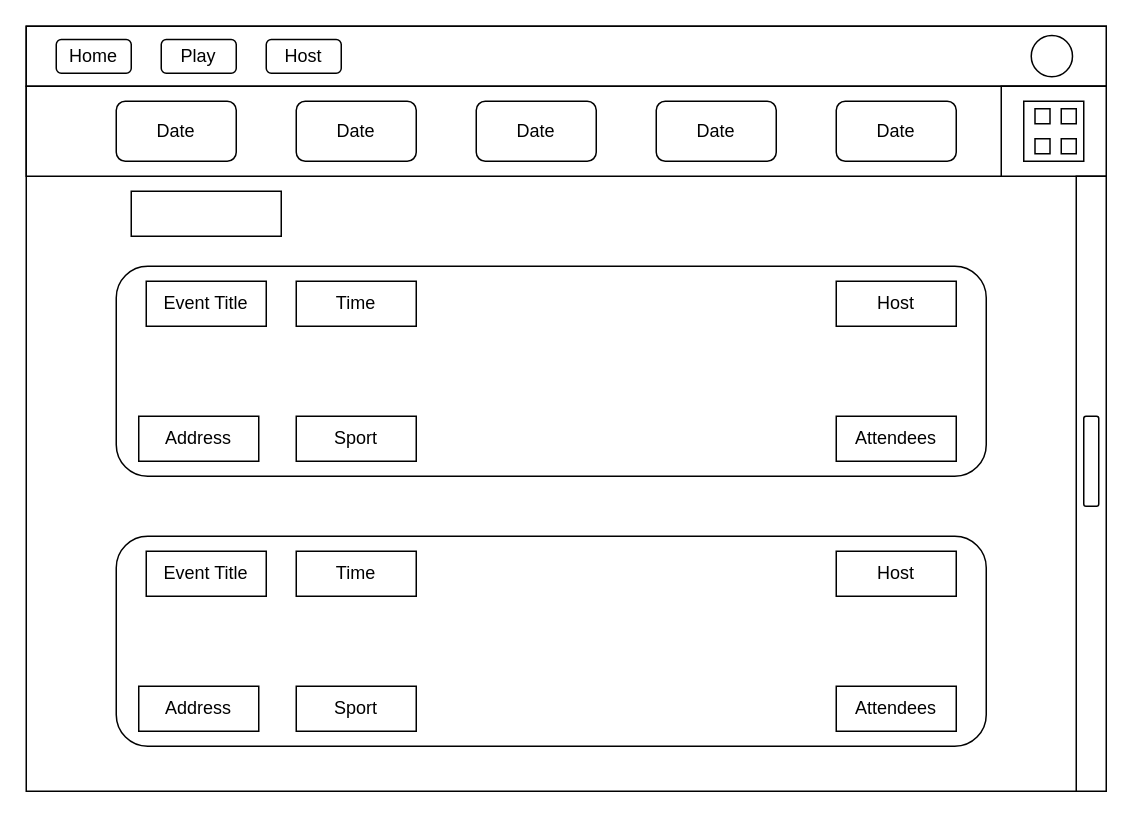
Image size: 1133x818. Some labels were removed from this diagram. Here are the shapes that lost their labels. From the top down, the centre of each, then its label:
(1051,55): login
(205,213): Events
